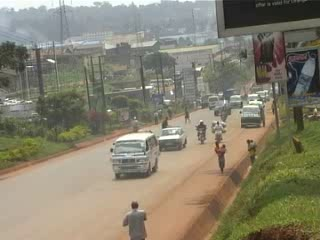Car: (211, 98, 233, 117)
Motorcycle: (210, 122, 229, 144), (193, 120, 209, 145), (219, 106, 229, 124)
